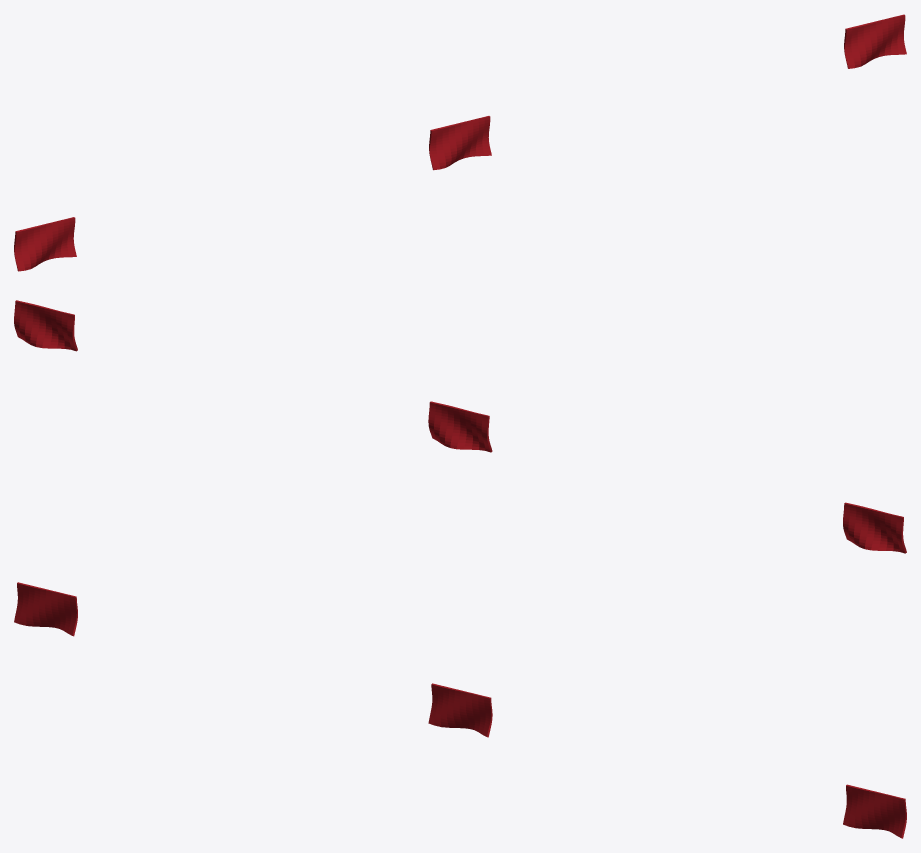
The model's file is FacadePennants_BannerRed.fbx.
The picture shows the model from 3 angles, top to bottom: view 1: azimuth 30°, elevation 25°; view 2: azimuth 150°, elevation 25°; view 3: azimuth 330°, elevation 25°; orthographic projection.
Parts seen in each view (by area): view 1: FacadePennant-24.001; view 2: FacadePennant-24.001; view 3: FacadePennant-24.001.
Part boxes in pixels (x1,y1,x2,y2): FacadePennant-24.001: (14,14,906,271); FacadePennant-24.001: (14,300,906,553); FacadePennant-24.001: (14,582,906,838).
Bounding box in the file's own units: 5145 × 217 × 71.48.
